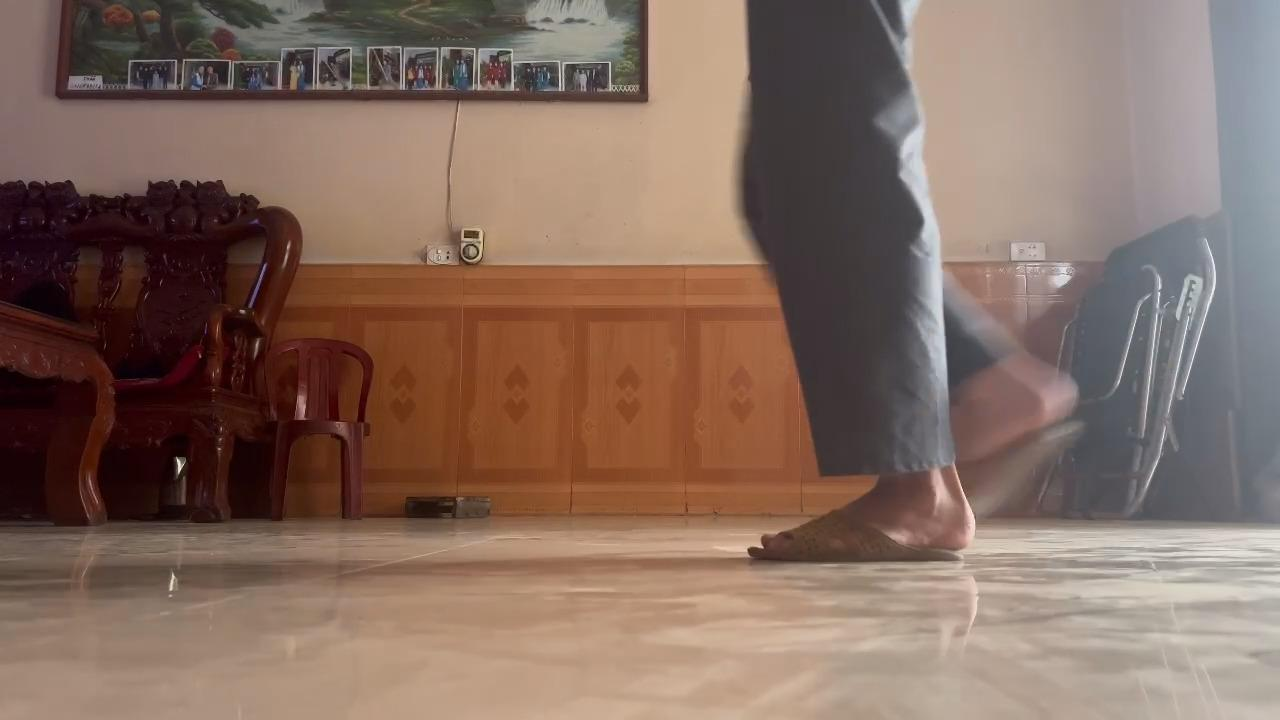no-boot: (742, 480, 983, 573), (950, 353, 1085, 516)
